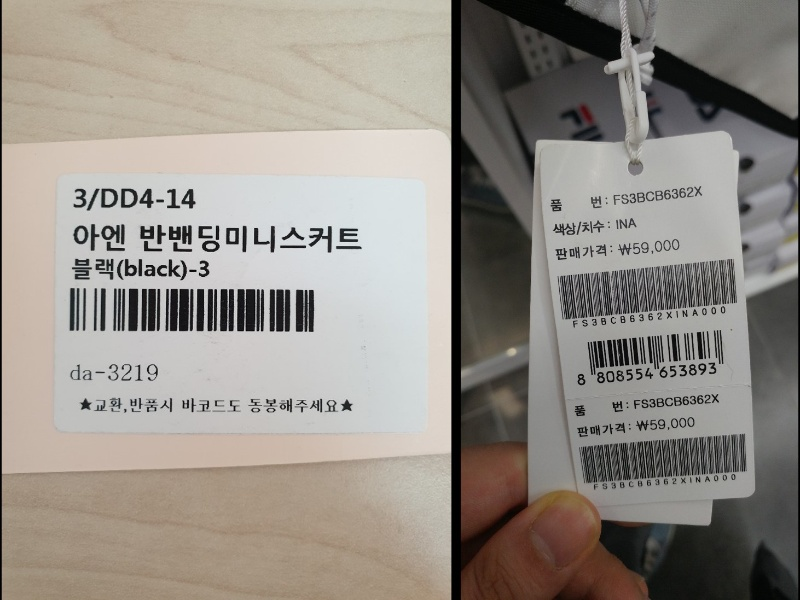tag: (2, 129, 448, 475), (535, 140, 754, 503)
text: (71, 220, 365, 254), (75, 393, 357, 417), (571, 305, 729, 329), (72, 256, 212, 282), (72, 184, 198, 212), (597, 361, 718, 384), (69, 359, 161, 386), (591, 473, 737, 490), (612, 186, 705, 205), (634, 393, 719, 413), (618, 236, 681, 257), (548, 193, 609, 212), (554, 242, 614, 261), (572, 398, 631, 417), (551, 218, 612, 236), (575, 421, 634, 439), (633, 416, 697, 432), (614, 216, 640, 230)
